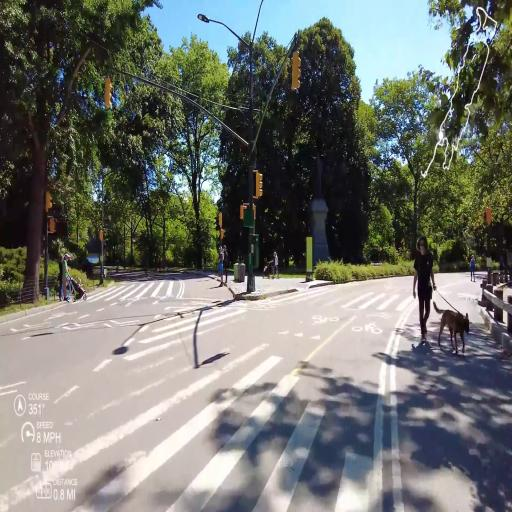Street_Light: (195, 0, 270, 97)
